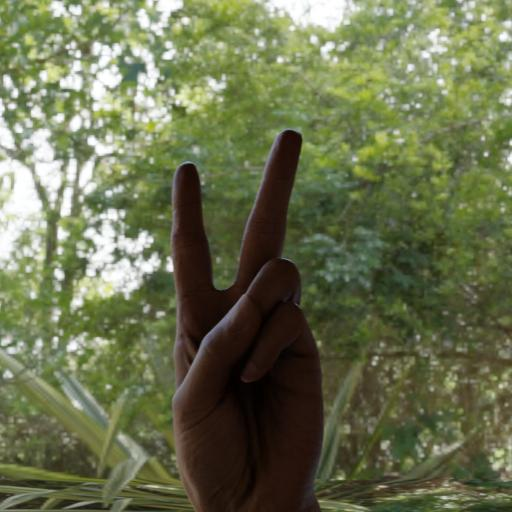V: (151, 129, 349, 512)
